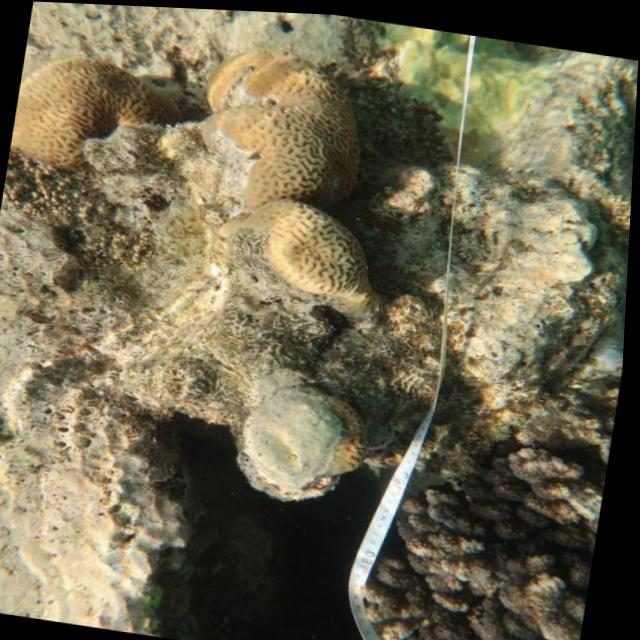Healthy Coral: (185, 35, 356, 207), (218, 187, 411, 327), (7, 35, 171, 186)
